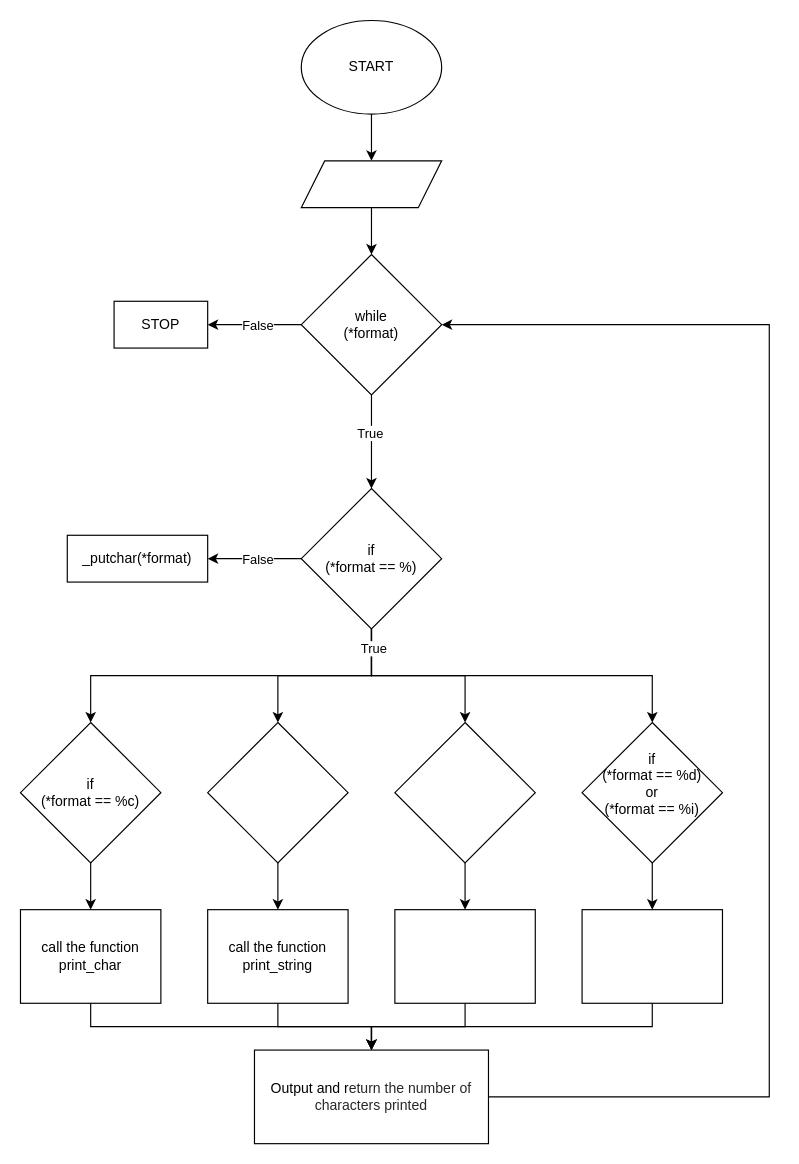
Image size: 799x1164. Some labels were removed from this diagram. The shapes that lost their labels are listed below. From the top down, each one's box as (x1, y1, x2, y2) in pixels, then its label:
(300, 160, 442, 208): Enter args
(207, 721, 348, 863): if (*format == %s)
(394, 721, 535, 863): if (*format == %%)
(394, 909, 535, 1003): _putchar('%')
(581, 909, 722, 1003): call the function print_int
